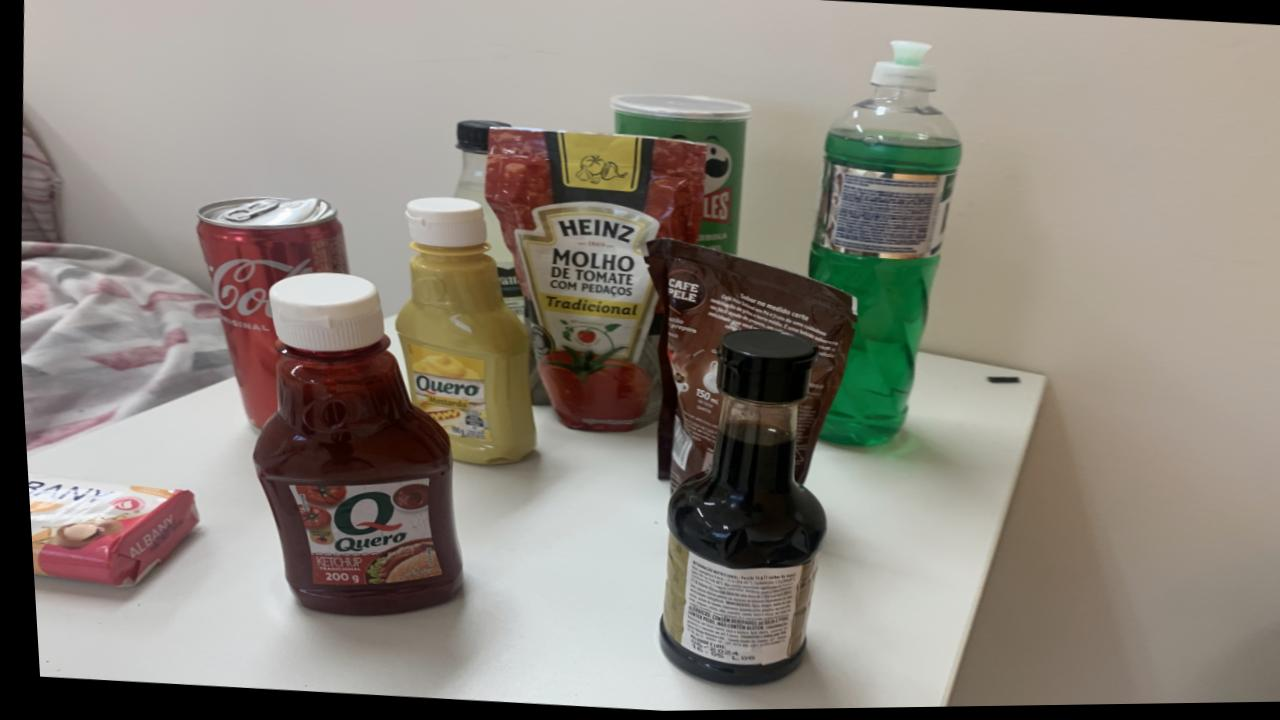Coffee-Pantry_Items: (641, 240, 853, 490)
Coke-Drinks: (194, 196, 346, 428)
Detergent-Cleanup_Items: (804, 44, 960, 448)
English_Sauce-Pantry_Items: (652, 331, 818, 686)
Ketchup-Pantry_Items: (248, 273, 454, 616)
Mustard-Pantry_Items: (392, 197, 530, 466)
Pringles-Snacks: (607, 95, 750, 256)
Soap-Cleanup_Items: (22, 471, 192, 586)
Soda-Drinks: (452, 120, 520, 322)
Tomato_Sauce-Pantry_Items: (482, 128, 704, 434)
